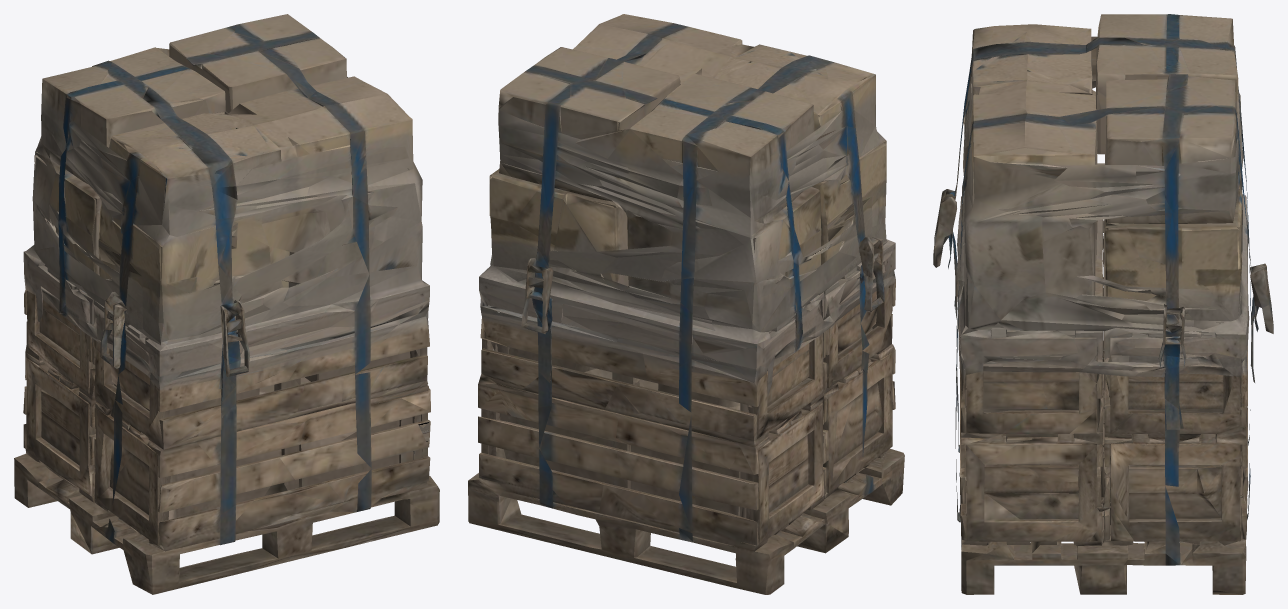
Rendered from palettes.glb.
3 renders of one model, left to right at view 1: azimuth 30°, elevation 25°; view 2: azimuth 150°, elevation 25°; view 3: azimuth 270°, elevation 25°, orthographic. The views are drawn at different scales.
Parts seen in each view (by area): view 1: output_unwrapped; view 2: output_unwrapped; view 3: output_unwrapped.
Part boxes in pixels (x1,y1,x2,y2): output_unwrapped: (14, 14, 439, 594); output_unwrapped: (468, 14, 904, 594); output_unwrapped: (933, 14, 1273, 594).
Size of the model in its own units: 1.43 by 1.9 by 1.31.
1 material, 1 textured.
